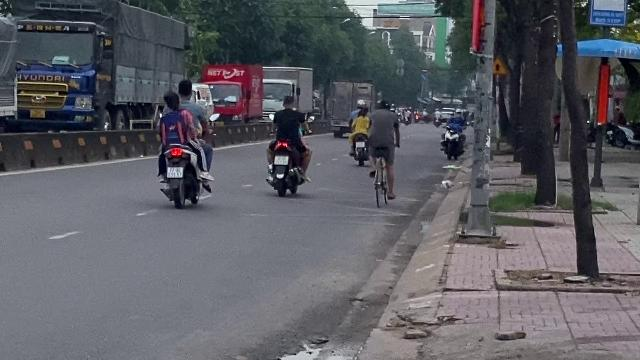licenseplate: (167, 166, 183, 178)
motorcyclist: (153, 77, 214, 207)
nohelmet: (175, 77, 193, 99), (162, 90, 180, 110)
